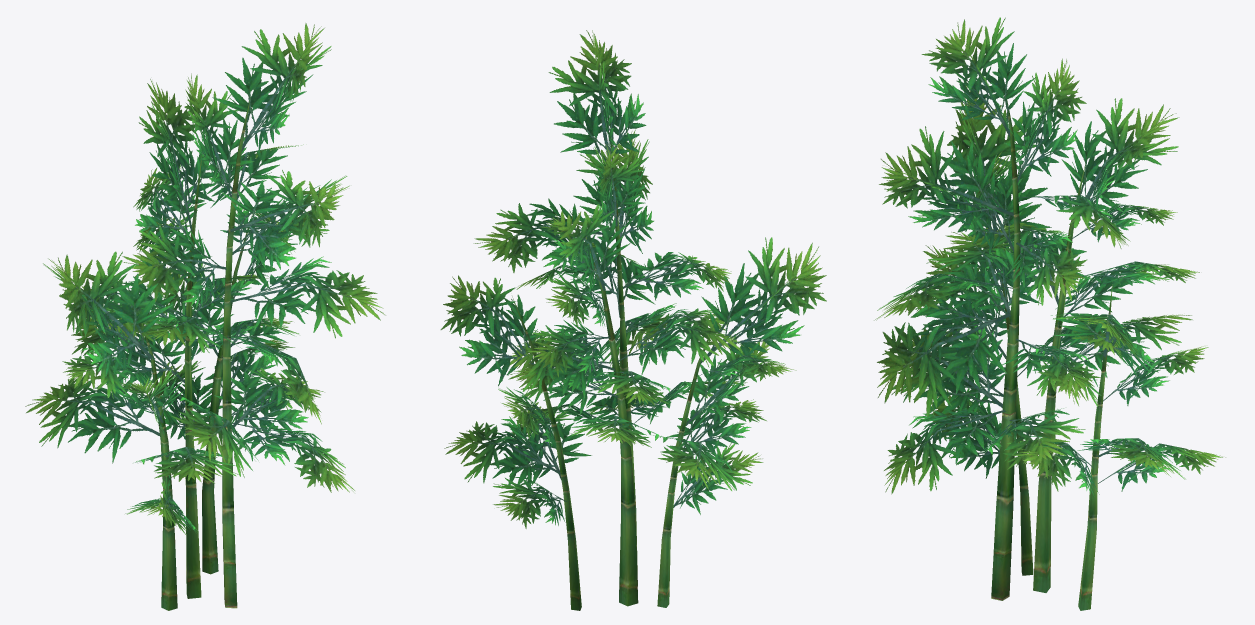
The model's file is guan_mu_016_a.FBX.
3 views of the same model, side by side, from view 1: azimuth 30°, elevation 25°; view 2: azimuth 150°, elevation 25°; view 3: azimuth 270°, elevation 25° (orthographic). The views are drawn at different scales.
Parts seen in each view (by area): view 1: guan_mu_016_a; view 2: guan_mu_016_a; view 3: guan_mu_016_a.
Boxes of the visible parts, left/top/right/bottom form: guan_mu_016_a: left=25, top=23, right=385, bottom=610; guan_mu_016_a: left=440, top=30, right=826, bottom=610; guan_mu_016_a: left=874, top=17, right=1225, bottom=610.
Bounding box in the file's own units: 274 × 419 × 232.
